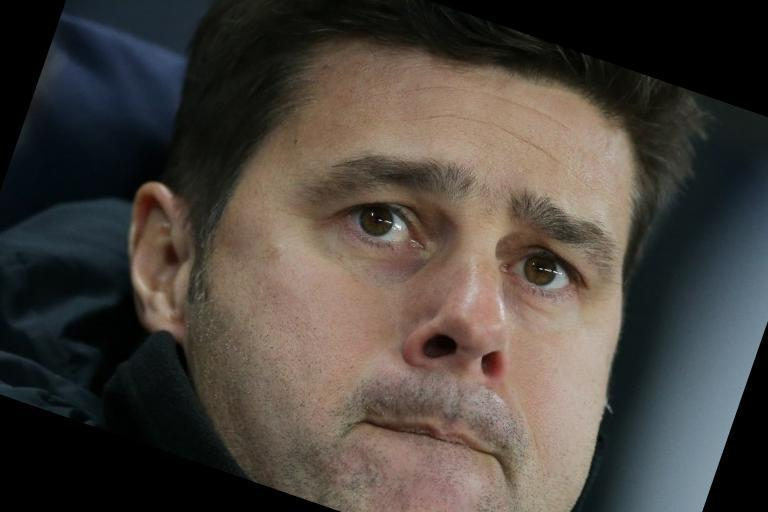Sober: (245, 55, 606, 509)
